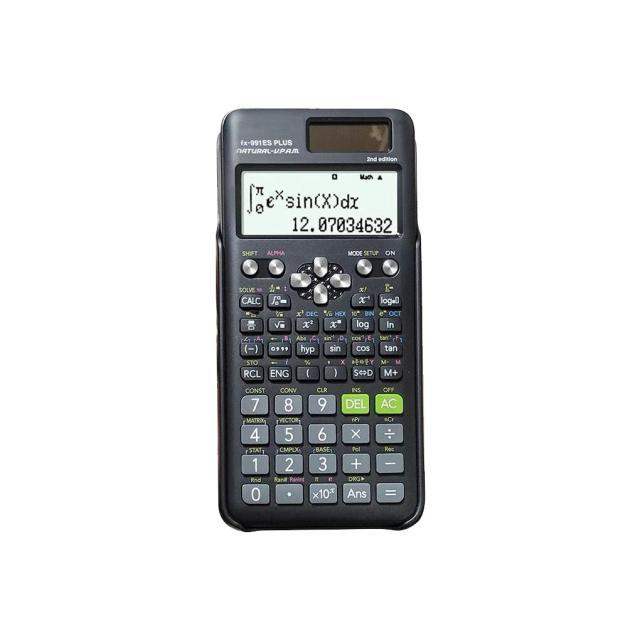Calculator: (210, 82, 442, 560)
